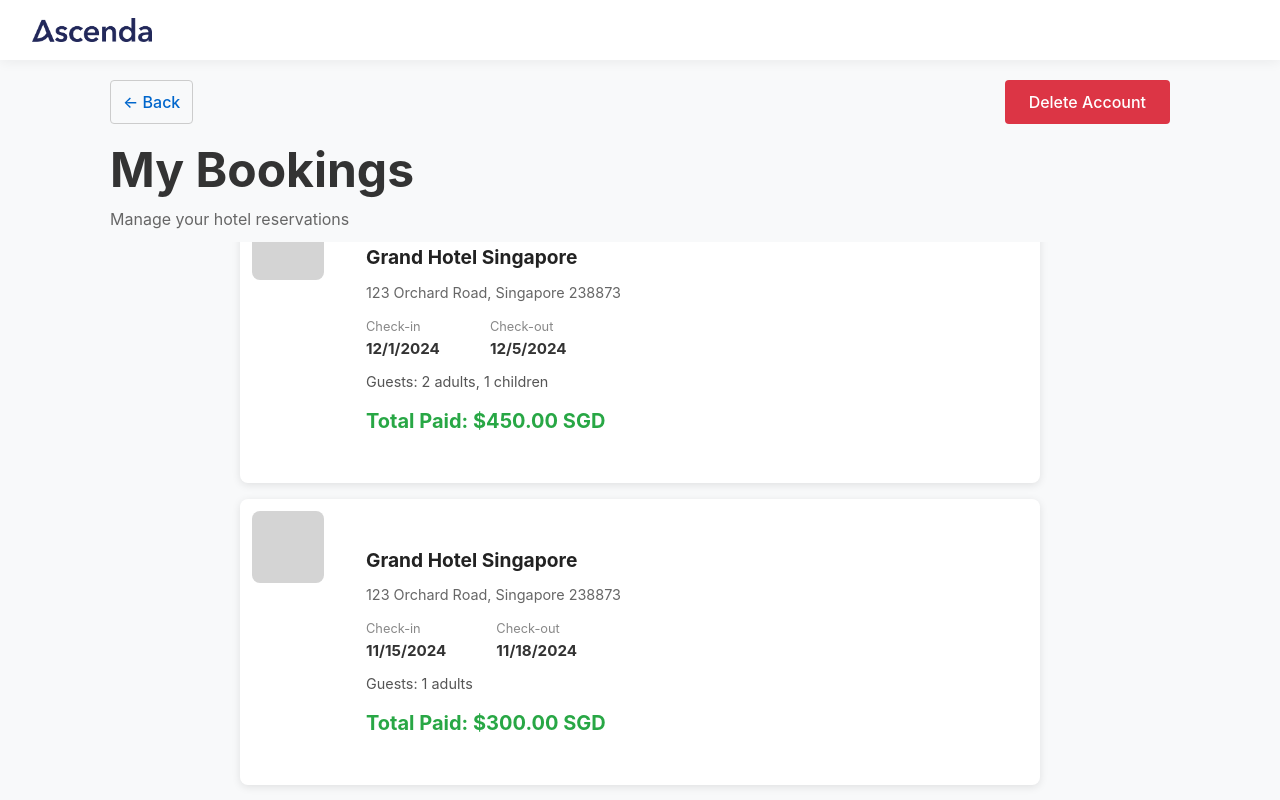
Test: ViewBookingsPage and BookingDetailsModal Integration › should handle booking without special requests
(page scrolled)
Expected: the number of headings "Grand Hotel Singapore" is 2, [366,245,577,269]; [366,548,577,572]
Click the text "Total Paid: $300.00 SGD" at (640, 642), box [240,498,1040,785]
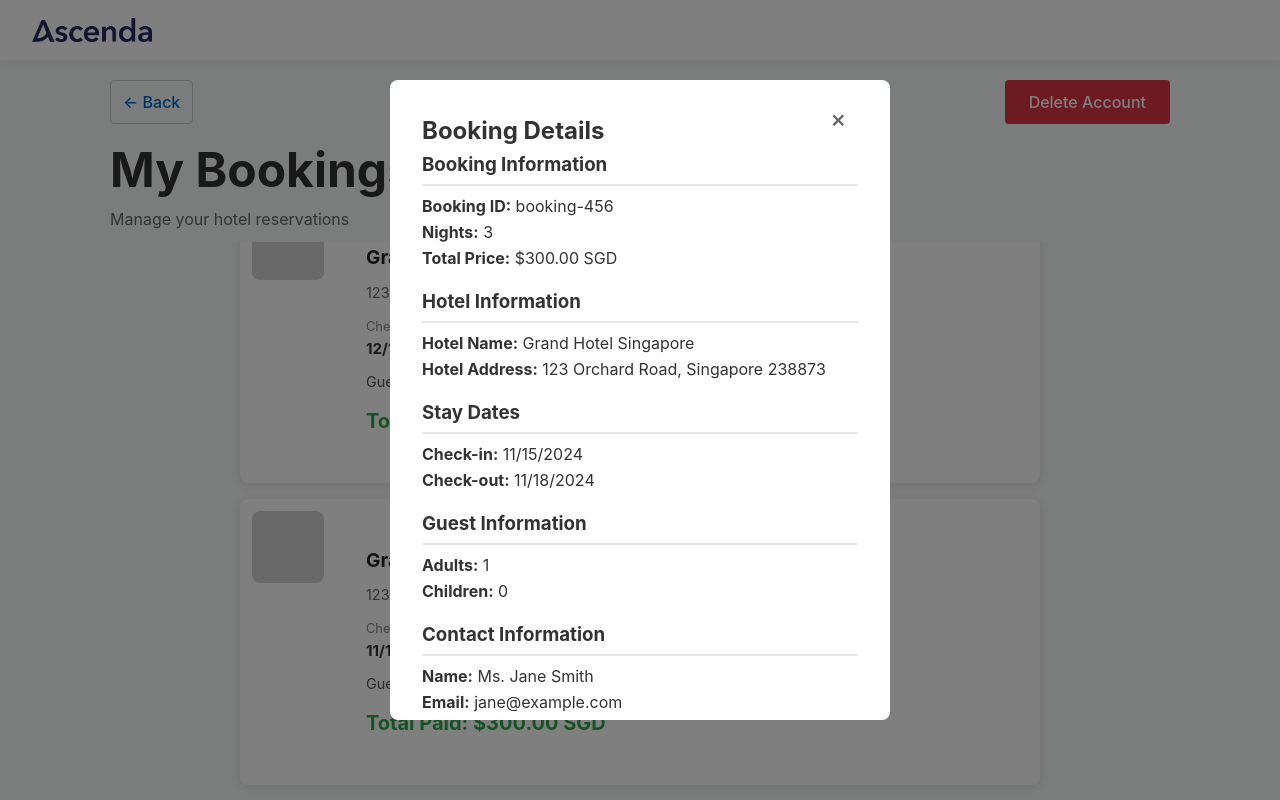
Now the heading "Booking Details" is shown, box [422,116,604,145]
Now the text "booking-456" is shown, box [516,196,614,216]
Now the text "Ms. Jane Smith" is shown, box [422,666,594,686]
